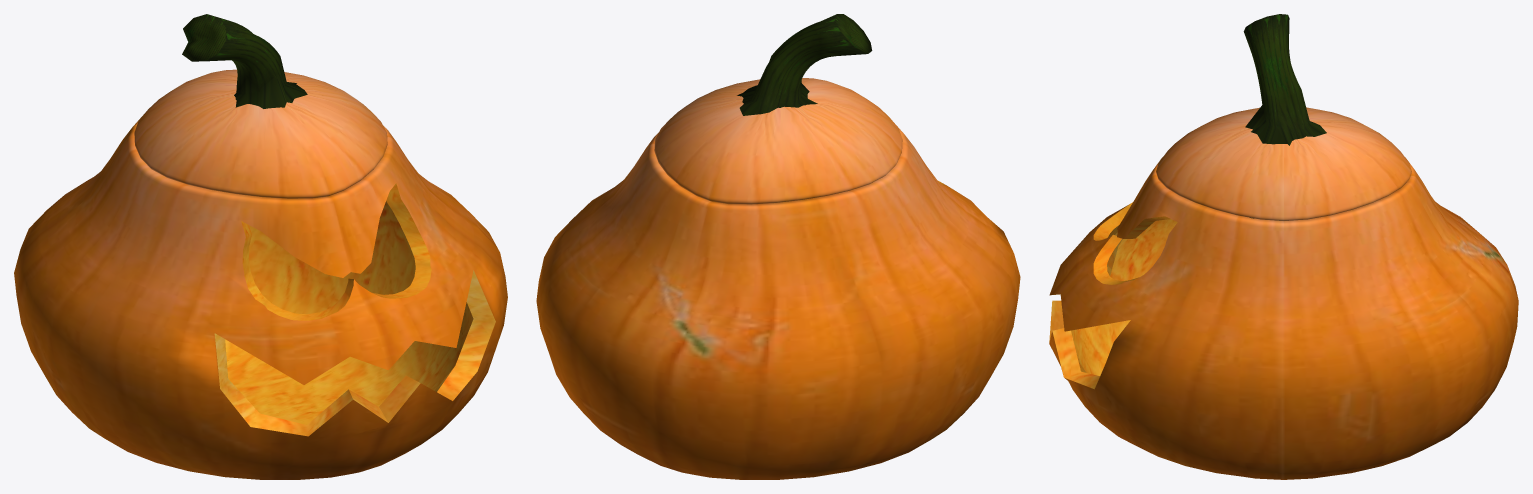
File: pumpkin3.glb
The picture shows the model from 3 angles, left to right: view 1: azimuth 30°, elevation 25°; view 2: azimuth 150°, elevation 25°; view 3: azimuth 270°, elevation 25°; orthographic projection. The views are drawn at different scales.
Visible parts, largest first — view 1: frontL_pumpkin_body; view 2: frontL_pumpkin_body; view 3: frontL_pumpkin_body.
Boxes of the visible parts, x1,y1,x2,y2 form: frontL_pumpkin_body: (14,14,507,479); frontL_pumpkin_body: (536,14,1020,479); frontL_pumpkin_body: (1049,14,1518,479).
Bounding box in the file's own units: 10.12 × 9.82 × 10.65.
4 materials, 4 textured.
